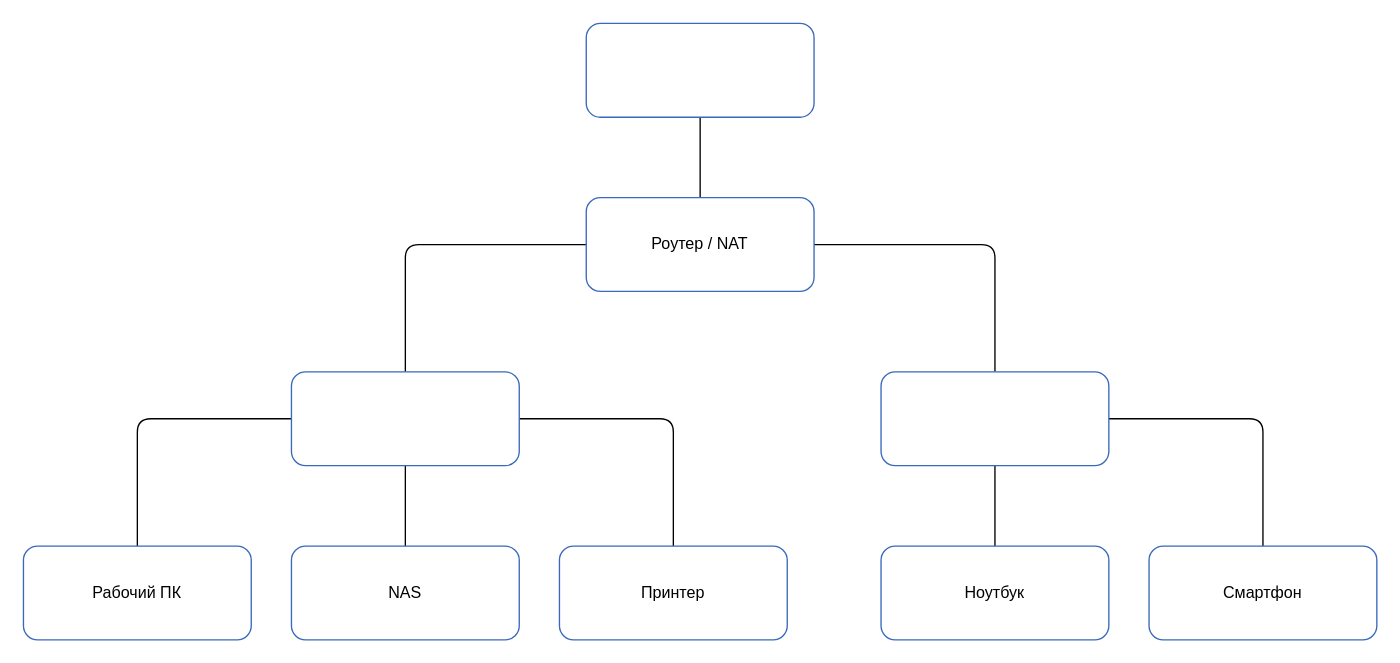
The diagram is 1400 pixels wide and 663 high, and some of its shapes have lost their labels. Here are the shapes that lost their labels. From the top down, the box of each, then its label:
(585, 22, 814, 117): Интернет
(290, 371, 519, 466): Коммутатор
(880, 371, 1109, 466): Wi-Fi
